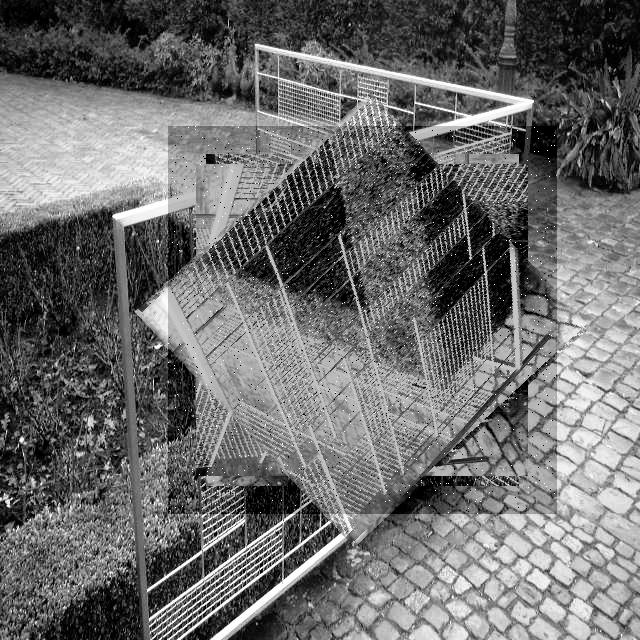fences: (168, 126, 557, 514)
